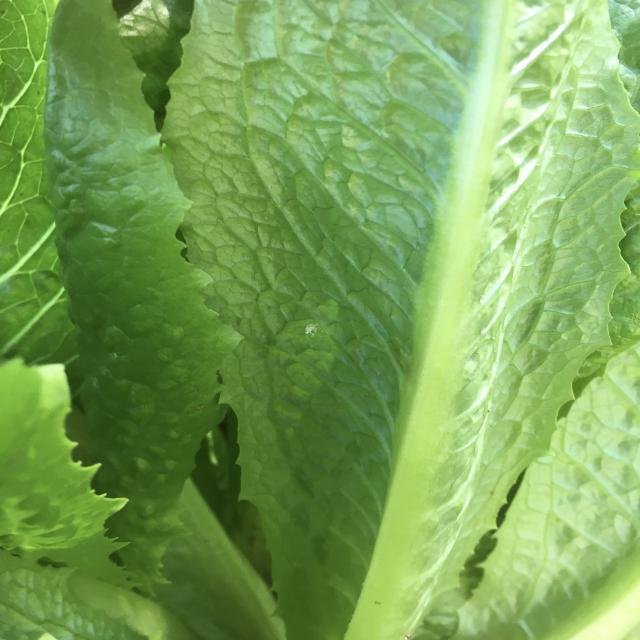Healthy Lettuce: (8, 2, 636, 636)
